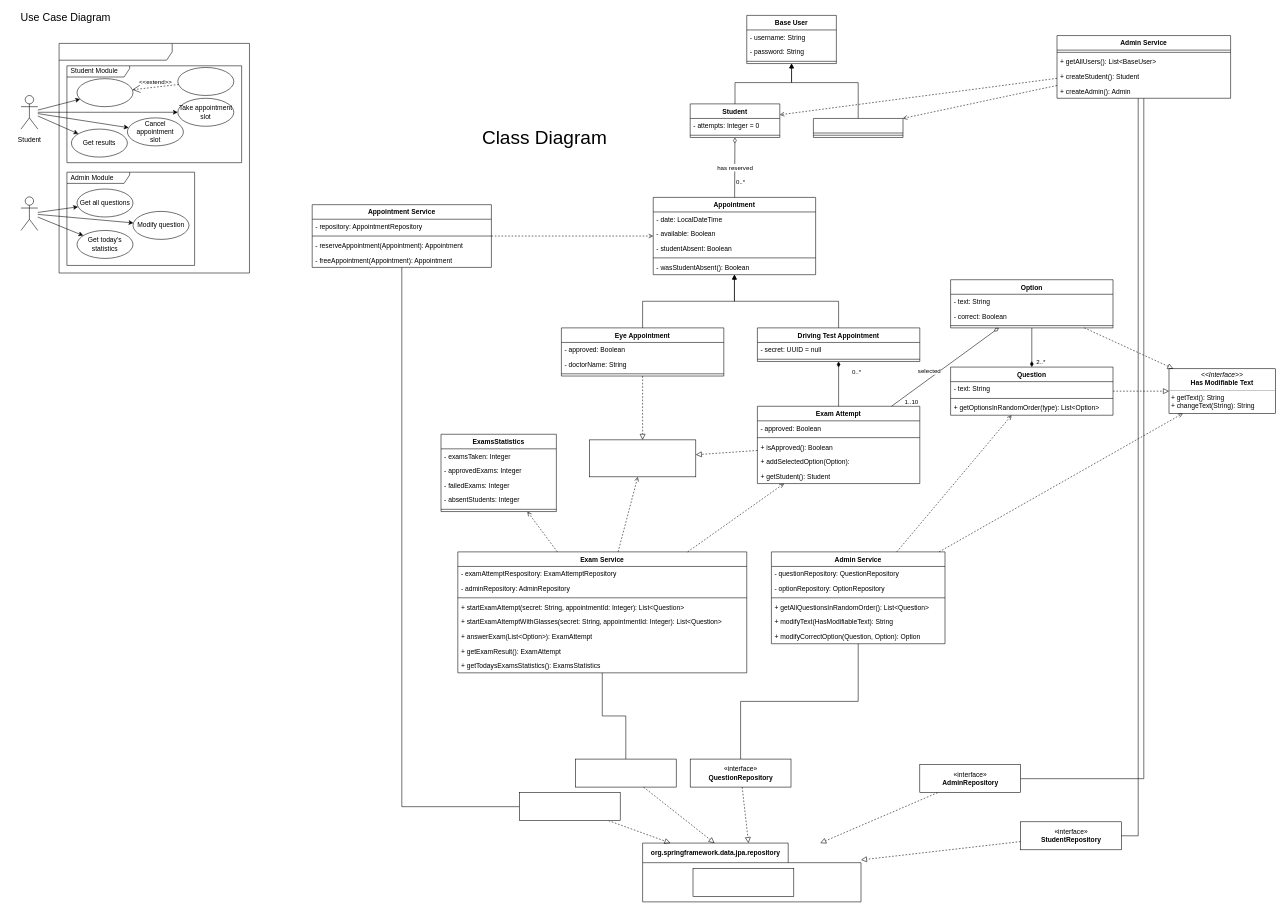
Image size: 1285x912. Some labels were removed from this diagram. Here are the shapes that lost their labels. From the top down, the centre of each, then its label:
At (104,92): "Start exam in appointment slot".
At (205,81): "Answer questions".
At (858,127): "Admin".
At (154,158): "Driving Appointment System".
At (29,213): "Administrator".
At (642,458): "<<Interface>> Approvable + isApproved(): Boolean".
At (625,773): "«interface» ExamAttemptRepository".
At (569,806): "«interface» AppointmentRepository".
At (743,882): "«interface» JpaRepository".
